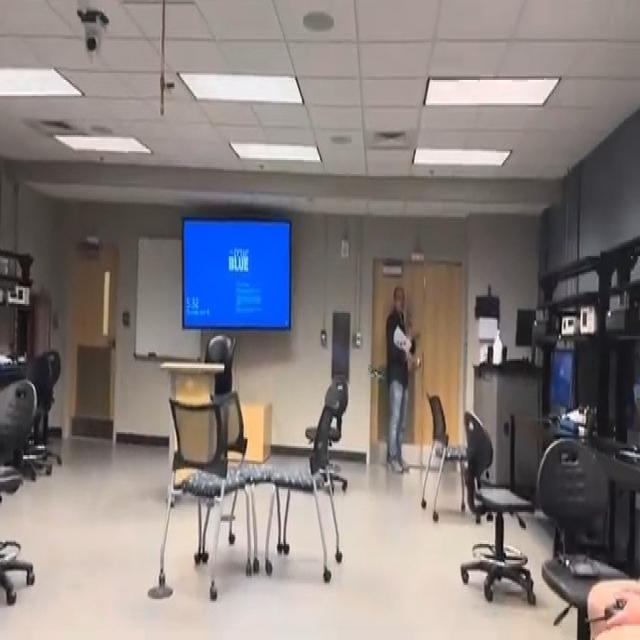drone: (362, 344, 394, 398)
